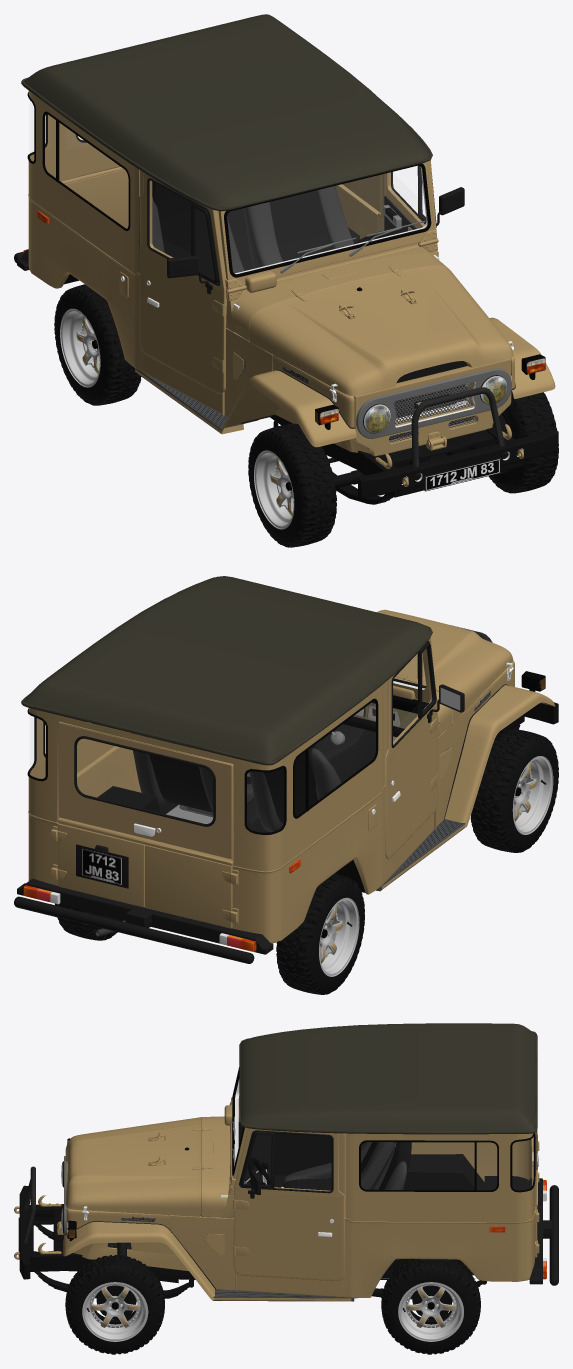
Rendered from 4x4_toyota_bj.glb.
The picture shows the model from 3 angles, top to bottom: view 1: azimuth 30°, elevation 25°; view 2: azimuth 150°, elevation 25°; view 3: azimuth 270°, elevation 25°; orthographic projection. The views are drawn at different scales.
Visible parts, largest first — view 1: Cube_3, capot, caisse, Boole_2, pneu_1_2, siege_av, aile_av, pneu_1, face, pc, siege_av_1, auvent_1 (+27 smaller); view 2: Cube_3, caisse, por, pneu_1_2, Boole_2, pneu_1, capot, aile_av, Cube_7_3, siege_av_1, siege_av, Cylinder_1 (+17 smaller); view 3: Cube_3, caisse, capot, Boole_2, pneu_1_2, pneu_1, Boole, aile_av, Cube_3_3, Cube_5_3, auvent_1, Array_1_2 (+20 smaller).
Boxes of the visible parts, x1,y1,x2,y2 form: Cube_3: (24,14,429,207); capot: (249,266,513,395); caisse: (28,91,385,413); Boole_2: (139,160,437,393); pneu_1_2: (248,390,558,547); siege_av: (244,186,354,268); aile_av: (220,317,555,447); pneu_1: (54,284,141,405); face: (353,358,511,456); pc: (358,429,558,498); siege_av_1: (139,181,244,278); auvent_1: (231,253,446,341); Cube_3: (24,576,429,761); caisse: (28,680,434,943); por: (56,721,233,928); pneu_1_2: (470,729,558,852); Boole_2: (385,637,437,859); pneu_1: (55,873,364,994); capot: (376,609,513,722); aile_av: (444,685,555,827); Cube_7_3: (17,878,273,954); siege_av_1: (249,744,341,831); siege_av: (130,732,253,812); Cylinder_1: (14,896,254,963); Cube_3: (240,1023,535,1130); caisse: (237,1133,535,1298); capot: (65,1117,200,1216); Boole_2: (233,1096,344,1281); pneu_1_2: (65,1255,164,1354); pneu_1: (381,1259,480,1354); Boole: (170,1215,235,1290); aile_av: (63,1222,214,1300); Cube_3_3: (244,1133,331,1187); Cube_5_3: (386,1154,484,1271); auvent_1: (201,1116,230,1217); Array_1_2: (82,1282,148,1341).
Size of the model in its own units: 2.98 by 2.82 by 5.84.
52 materials, 11 textured.
